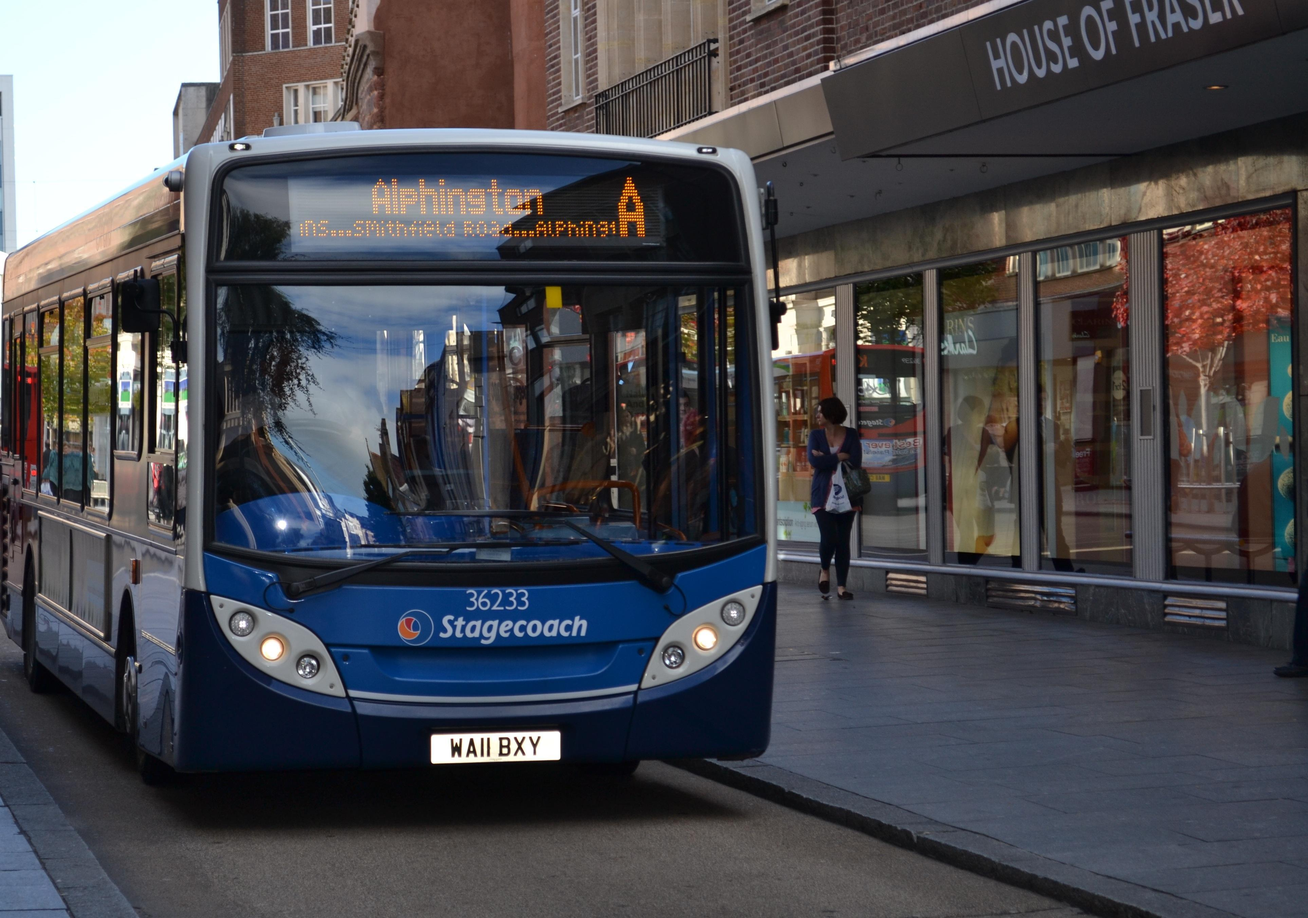Bus: (0, 128, 773, 774)
